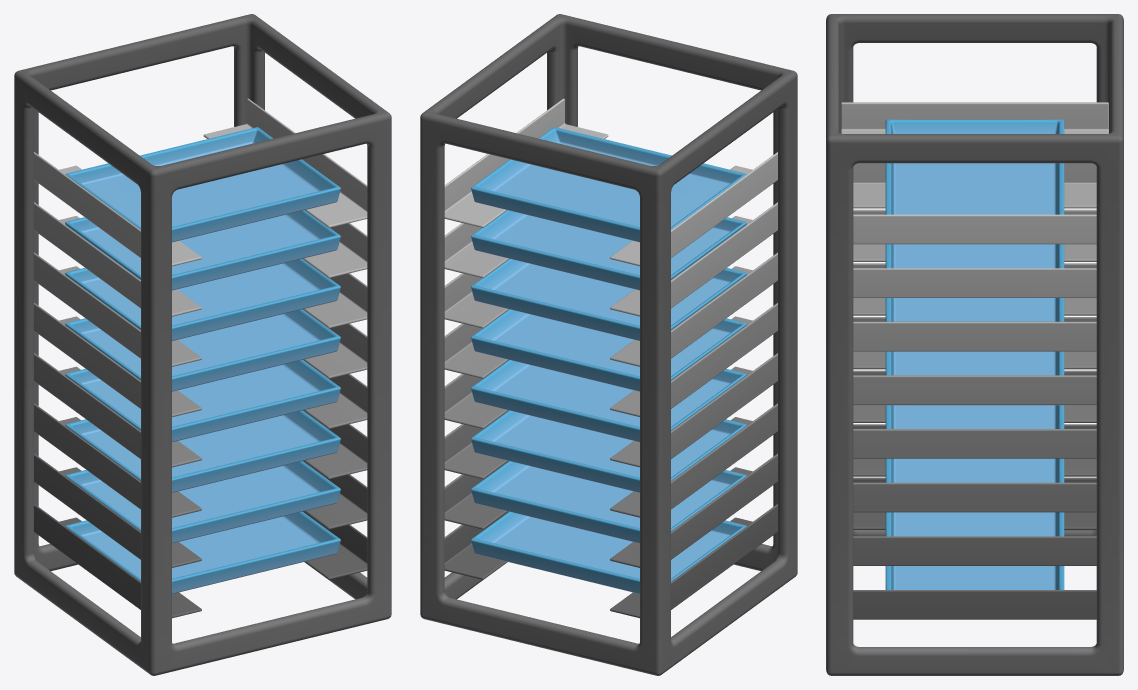
File: HH_TrayRack 1.fbx
3 renders of one model, left to right at view 1: azimuth 30°, elevation 25°; view 2: azimuth 150°, elevation 25°; view 3: azimuth 270°, elevation 25°, orthographic. The views are drawn at different scales.
Visible parts, largest first — view 1: TrayRack.001, Tray.002, Tray.005, Tray.004, Tray.006, Tray.003, Tray.007, Tray.008, Tray.001; view 2: TrayRack.001, Tray.002, Tray.005, Tray.004, Tray.006, Tray.007, Tray.003, Tray.008, Tray.001; view 3: TrayRack.001, Tray.002, Tray.001, Tray.006, Tray.007, Tray.004, Tray.003, Tray.005, Tray.008.
Boxes of the visible parts, x1,y1,x2,y2 form: TrayRack.001: (14,14,391,675); Tray.002: (65,127,340,242); Tray.005: (65,360,340,442); Tray.004: (65,309,340,391); Tray.006: (65,410,340,492); Tray.003: (65,259,340,340); Tray.007: (65,461,340,543); Tray.008: (65,511,340,593); Tray.001: (65,210,340,290); TrayRack.001: (420,14,797,675); Tray.002: (471,127,746,242); Tray.005: (471,360,746,442); Tray.004: (471,309,746,391); Tray.006: (471,410,746,492); Tray.007: (471,461,746,543); Tray.003: (471,259,746,340); Tray.008: (471,511,746,593); Tray.001: (471,210,746,290); TrayRack.001: (826,14,1123,675); Tray.002: (885,119,1064,214); Tray.001: (885,244,1064,268); Tray.006: (885,458,1064,482); Tray.007: (885,512,1064,536); Tray.004: (885,351,1064,375); Tray.003: (885,298,1064,321); Tray.005: (885,405,1064,428); Tray.008: (885,566,1064,589).
Bounding box in the file's own units: 100 × 200 × 100.
Materials: 1 (1 with a texture image).
